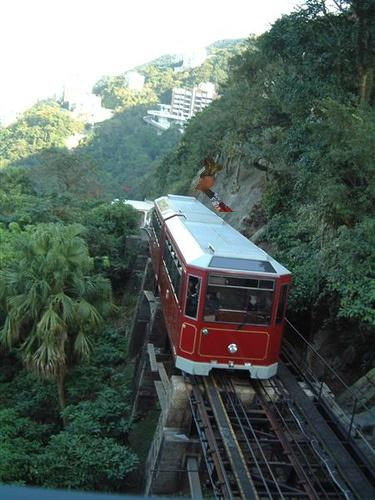tampered: (196, 157, 234, 212)
